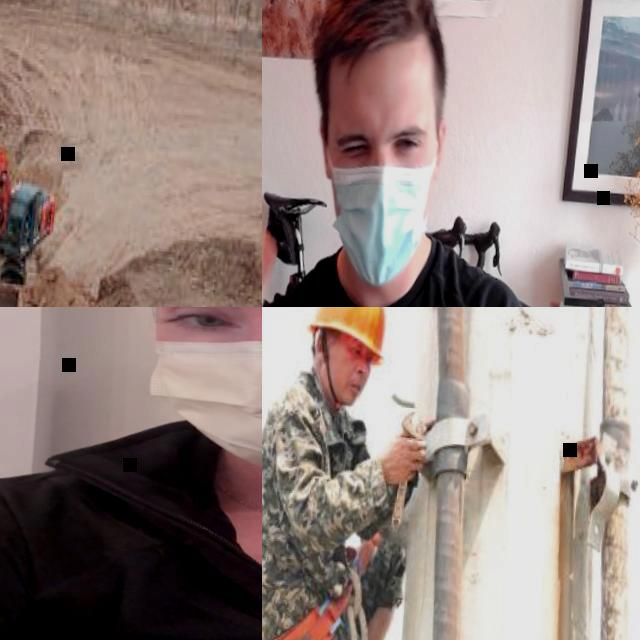helmet: (301, 307, 393, 363)
machinery: (0, 124, 62, 286)
mask: (124, 307, 262, 476), (312, 140, 439, 292)
no_helmet: (308, 0, 440, 66)
no_mask: (325, 358, 364, 406)
no_vest: (0, 449, 262, 640), (262, 382, 368, 629), (262, 228, 517, 307)
person: (262, 0, 640, 307), (0, 307, 262, 640), (262, 307, 438, 640)
